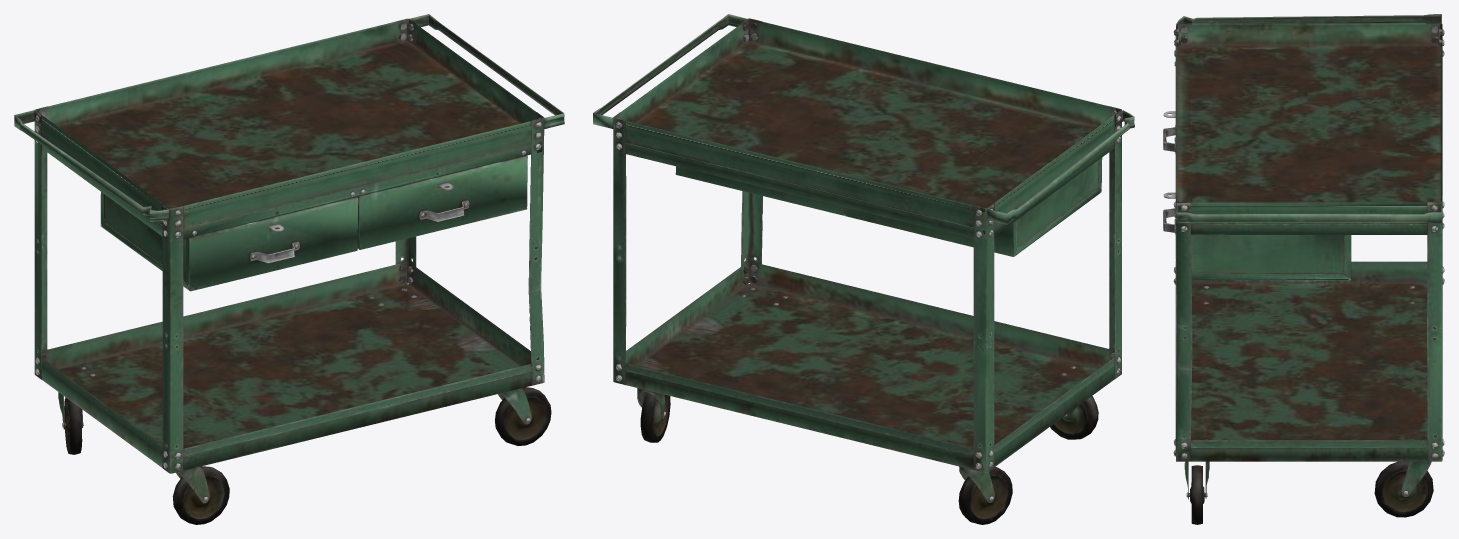
The model's file is tool_cart.glb.
3 views of the same model, side by side, from view 1: azimuth 30°, elevation 25°; view 2: azimuth 150°, elevation 25°; view 3: azimuth 270°, elevation 25° (orthographic). The views are drawn at different scales.
Visible parts, largest first — view 1: ToolCart; view 2: ToolCart; view 3: ToolCart.
Boxes of the visible parts, x1,y1,x2,y2 form: ToolCart: (14, 14, 564, 524); ToolCart: (593, 14, 1134, 524); ToolCart: (1163, 14, 1444, 524).
Bounding box in the file's own units: 1.19 × 0.9024 × 0.7038.
Materials: 1 (1 with a texture image).
